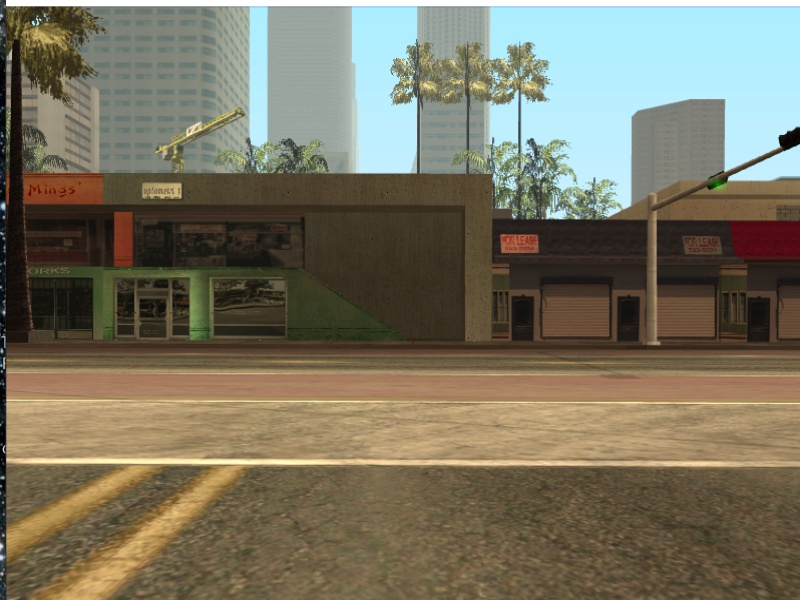pole: (643, 192, 663, 350)
